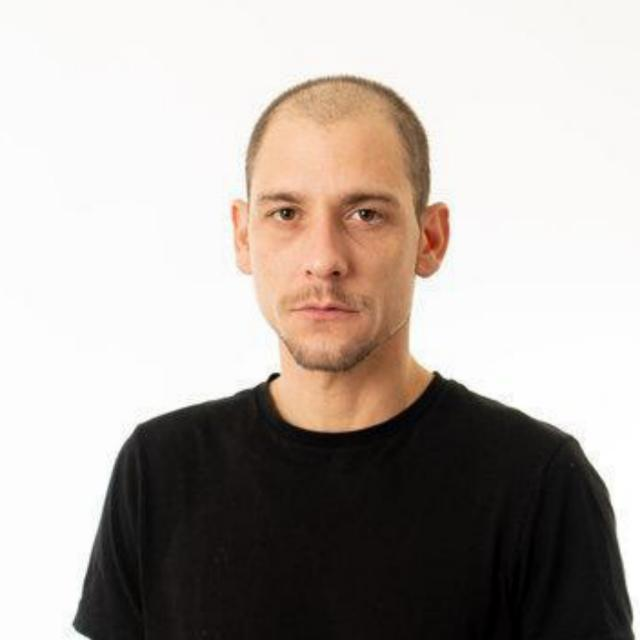Natural: (220, 113, 469, 391)
